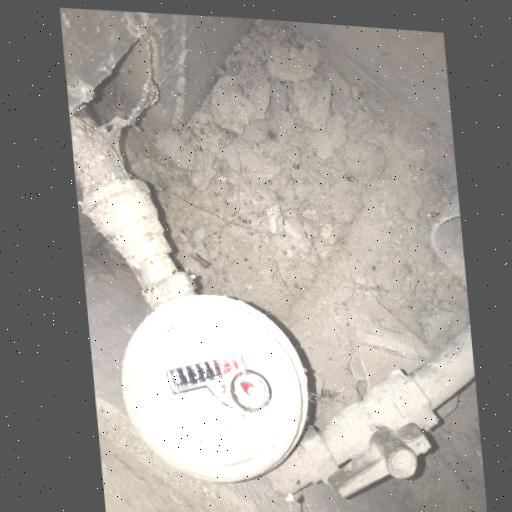0: (169, 368, 185, 389)
1: (206, 358, 222, 380), (179, 366, 195, 387)
3: (189, 363, 205, 385)
5: (223, 355, 238, 376)
7: (197, 361, 214, 383), (214, 357, 229, 378)
9: (232, 352, 248, 371)
border_water_meter_number: (163, 347, 254, 399)
